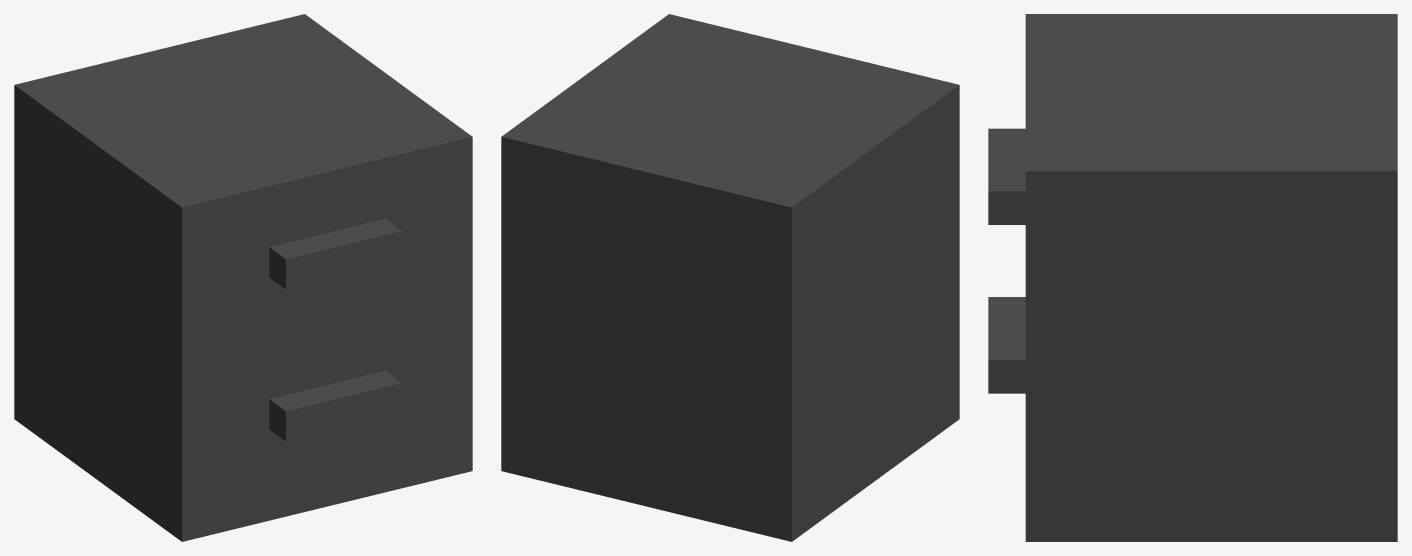
The model's file is Bedside table.obj.
3 views of the same model, side by side, from view 1: azimuth 30°, elevation 25°; view 2: azimuth 150°, elevation 25°; view 3: azimuth 270°, elevation 25° (orthographic). The views are drawn at different scales.
Bounding box in the file's own units: 1 × 1.1 × 1.1.
